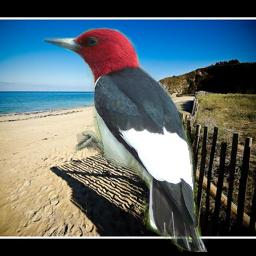Woodpecker: (40, 27, 212, 252)
